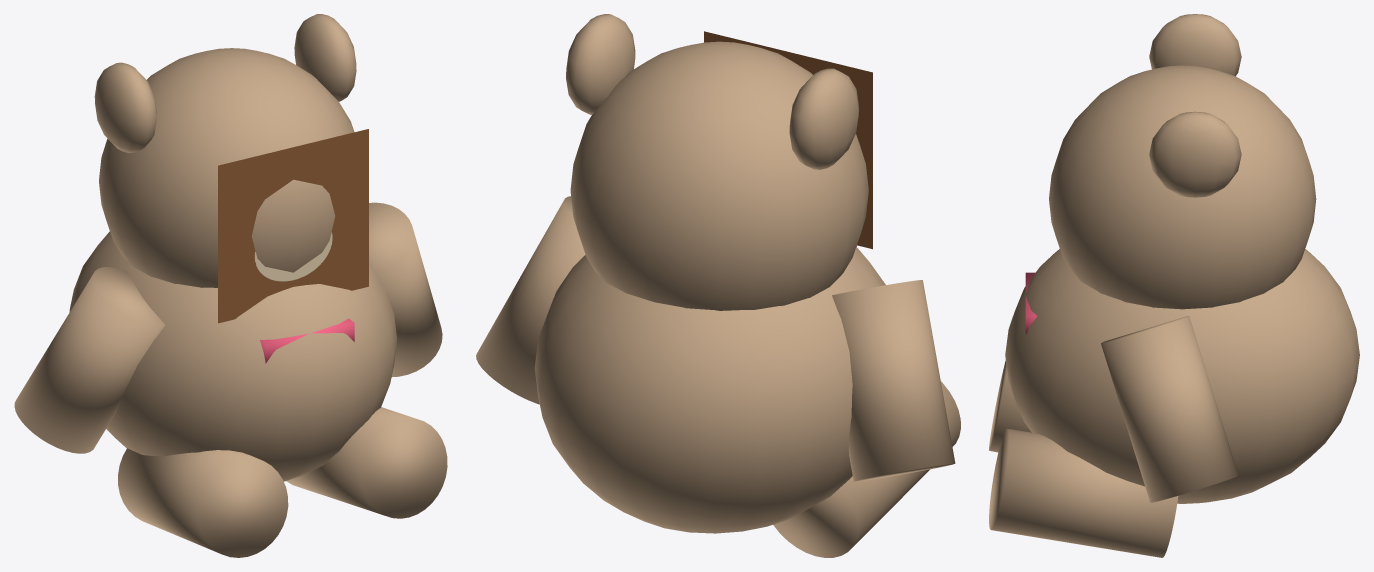
Rendered from giant_bear.glb.
3 views of the same model, side by side, from view 1: azimuth 30°, elevation 25°; view 2: azimuth 150°, elevation 25°; view 3: azimuth 270°, elevation 25° (orthographic). The views are drawn at different scales.
Visible parts, largest first — view 1: GiantTeddyBear; view 2: GiantTeddyBear; view 3: GiantTeddyBear.
Part boxes in pixels (x1,y1,x2,y2): GiantTeddyBear: [14, 14, 447, 557]; GiantTeddyBear: [476, 14, 960, 557]; GiantTeddyBear: [989, 14, 1359, 557].
Bounding box in the file's own units: 2.25 × 2.33 × 1.73.
Materials: 3 (1 with a texture image).
